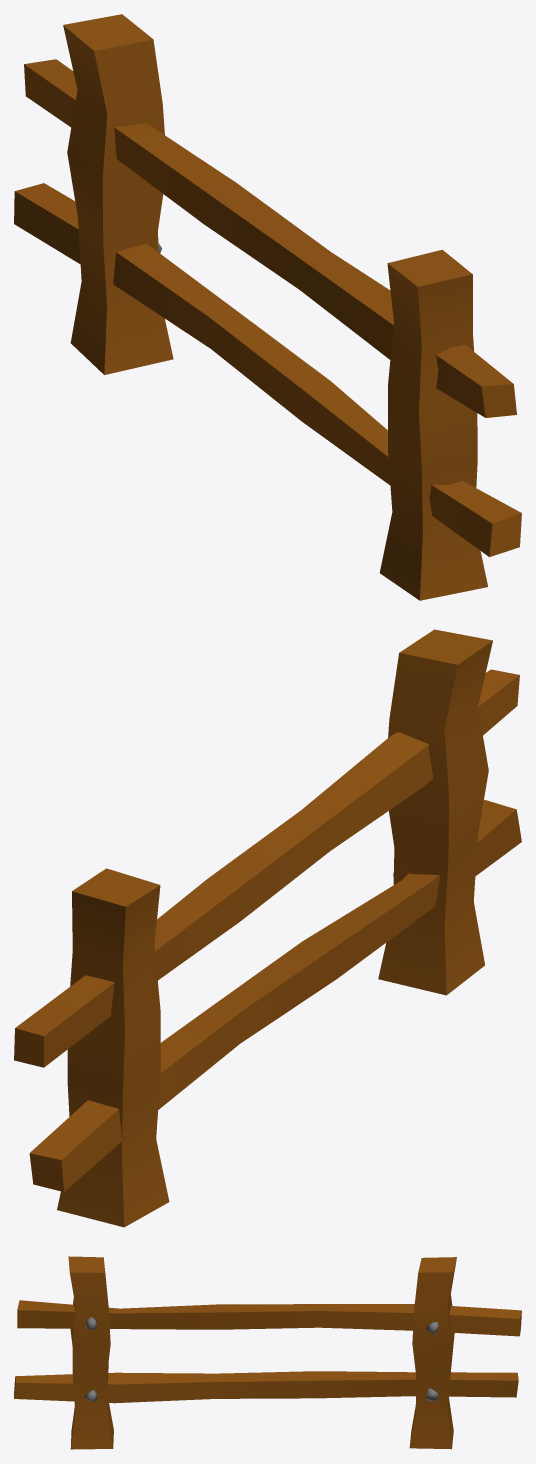
Rendered from Low Poly Fence.FBX.
3 renders of one model, top to bottom at view 1: azimuth 30°, elevation 25°; view 2: azimuth 150°, elevation 25°; view 3: azimuth 270°, elevation 25°, orthographic. The views are drawn at different scales.
Visible parts, largest first — view 1: Box002, Box001, Box004, Box003; view 2: Box001, Box002, Box003, Box004; view 3: Box004, Box003, Box002, Box001.
Part boxes in pixels (x1,y1,x2,y2): Box002: [63, 14, 173, 374]; Box001: [379, 249, 487, 600]; Box004: [14, 183, 521, 556]; Box003: [24, 59, 516, 417]; Box001: [378, 629, 492, 995]; Box002: [57, 868, 169, 1227]; Box003: [14, 669, 519, 1067]; Box004: [29, 800, 521, 1191]; Box004: [14, 1371, 518, 1403]; Box003: [17, 1300, 521, 1336]; Box002: [409, 1257, 456, 1449]; Box001: [68, 1256, 113, 1449].
Bounding box in the file's own units: 9.87 × 39.64 × 105.
Materials: 2 (2 with a texture image).
